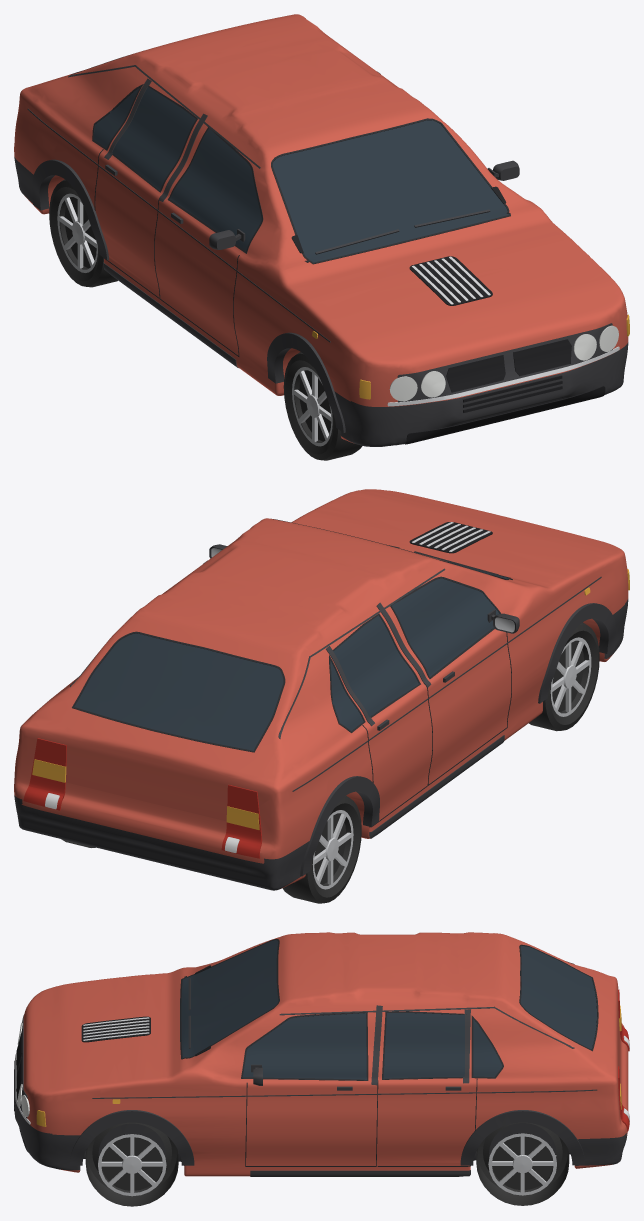
The model's file is delta.glb.
The picture shows the model from 3 angles, top to bottom: view 1: azimuth 30°, elevation 25°; view 2: azimuth 150°, elevation 25°; view 3: azimuth 270°, elevation 25°; orthographic projection. The views are drawn at different scales.
Visible parts, largest first — view 1: paint, glass, trim, wheel_fr, wheel_rr, headlights, mirrors; view 2: paint, glass, trim, wheel_rr, wheel_fr, taillights, mirrors, rear_blinker_left; view 3: paint, glass, trim, wheel_fl, wheel_rl, taillights.
Boxes of the visible parts, x1,y1,x2,y2 form: paint: (14, 14, 628, 446); glass: (94, 87, 508, 262); trim: (27, 55, 619, 444); wheel_fr: (283, 352, 362, 460); wheel_rr: (49, 179, 117, 287); headlights: (389, 325, 618, 401); mirrors: (209, 160, 519, 249); paint: (14, 489, 628, 890); glass: (74, 561, 508, 750); trim: (70, 518, 615, 876); wheel_rr: (282, 796, 361, 903); wheel_fr: (529, 622, 599, 731); taillights: (23, 738, 262, 858); mirrors: (209, 544, 519, 633); rear_blinker_left: (32, 759, 66, 782); paint: (14, 932, 628, 1176); glass: (181, 940, 596, 1079); trim: (14, 939, 598, 1176); wheel_fl: (85, 1122, 178, 1206); wheel_rl: (476, 1122, 569, 1205); taillights: (618, 989, 629, 1131).
Size of the model in its own units: 1.86 by 1.36 by 3.91.
